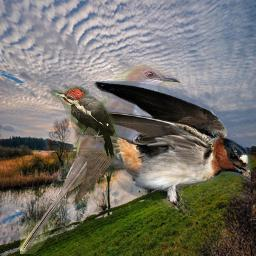Cuckoo: (20, 65, 182, 254)
Swallow: (71, 81, 251, 216)
Woodpecker: (51, 85, 121, 160)
